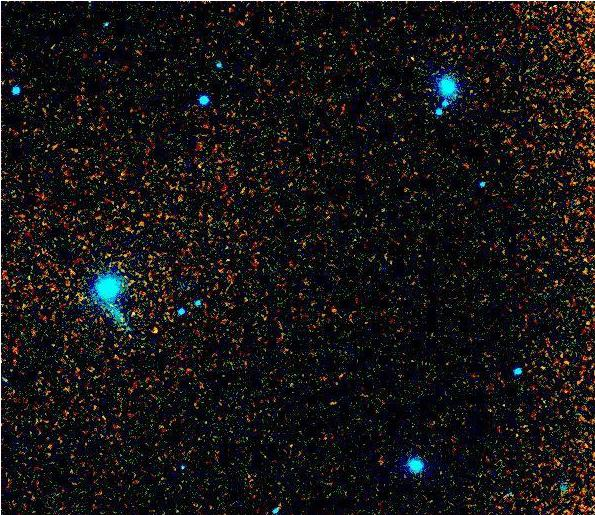star: (139, 314, 169, 344)
